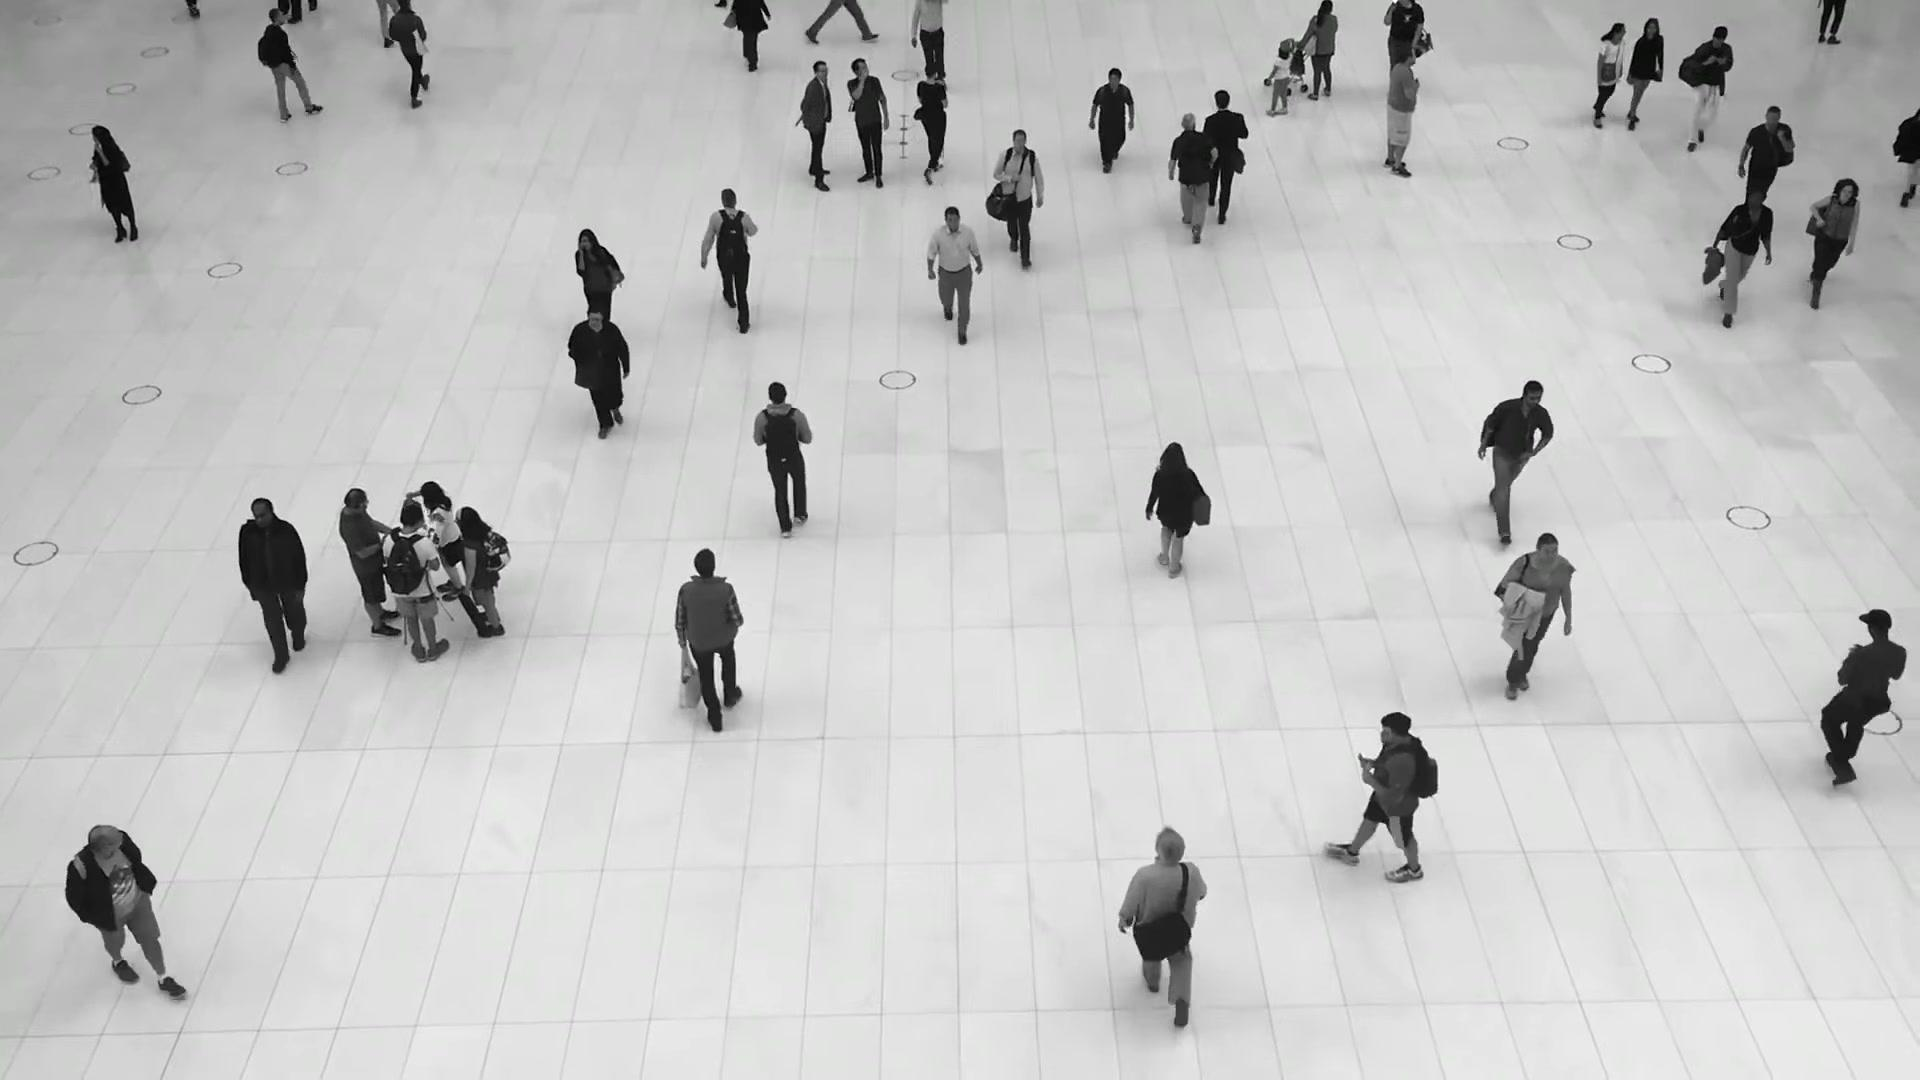person: (65, 824, 187, 999), (1323, 712, 1438, 884), (1117, 827, 1207, 1028), (1820, 607, 1909, 786), (1493, 531, 1574, 701), (674, 548, 744, 731), (1477, 379, 1553, 544), (237, 497, 308, 674), (381, 504, 448, 664), (753, 382, 812, 539), (339, 487, 401, 635), (1143, 442, 1211, 577), (567, 303, 630, 441), (1713, 186, 1773, 328), (700, 188, 758, 333), (926, 206, 983, 345), (256, 7, 323, 123), (454, 506, 511, 638), (1803, 178, 1860, 309), (993, 129, 1044, 268), (1679, 25, 1734, 153), (1168, 113, 1218, 244), (1203, 89, 1248, 224), (88, 125, 137, 243), (1737, 104, 1793, 203), (846, 58, 889, 188), (420, 481, 461, 601), (1382, 47, 1420, 177), (1088, 67, 1134, 173), (795, 60, 832, 192), (1623, 16, 1664, 131), (574, 227, 623, 319), (389, 0, 430, 109), (914, 63, 949, 186), (1592, 22, 1627, 130), (1300, 0, 1338, 100), (909, 0, 947, 80), (1383, 0, 1424, 65), (1263, 46, 1292, 116)
